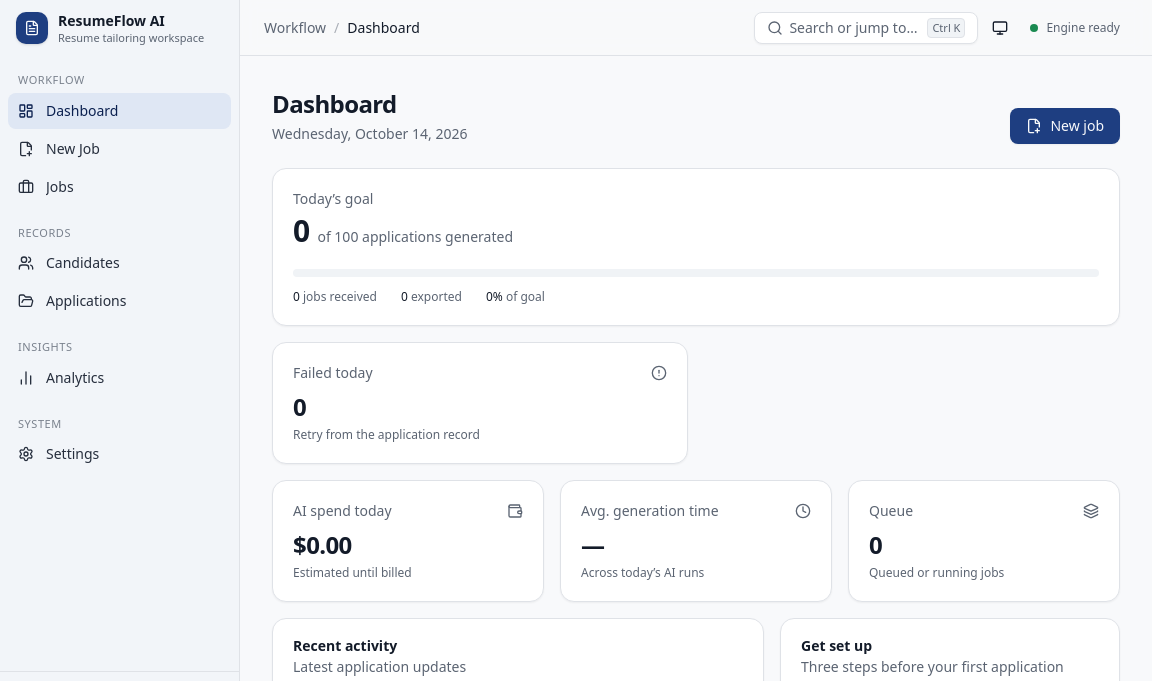
app shell › navigates to New Job from the sidebar
Click the link "New Job": {"x": 59, "y": 148} [18,138,100,158]
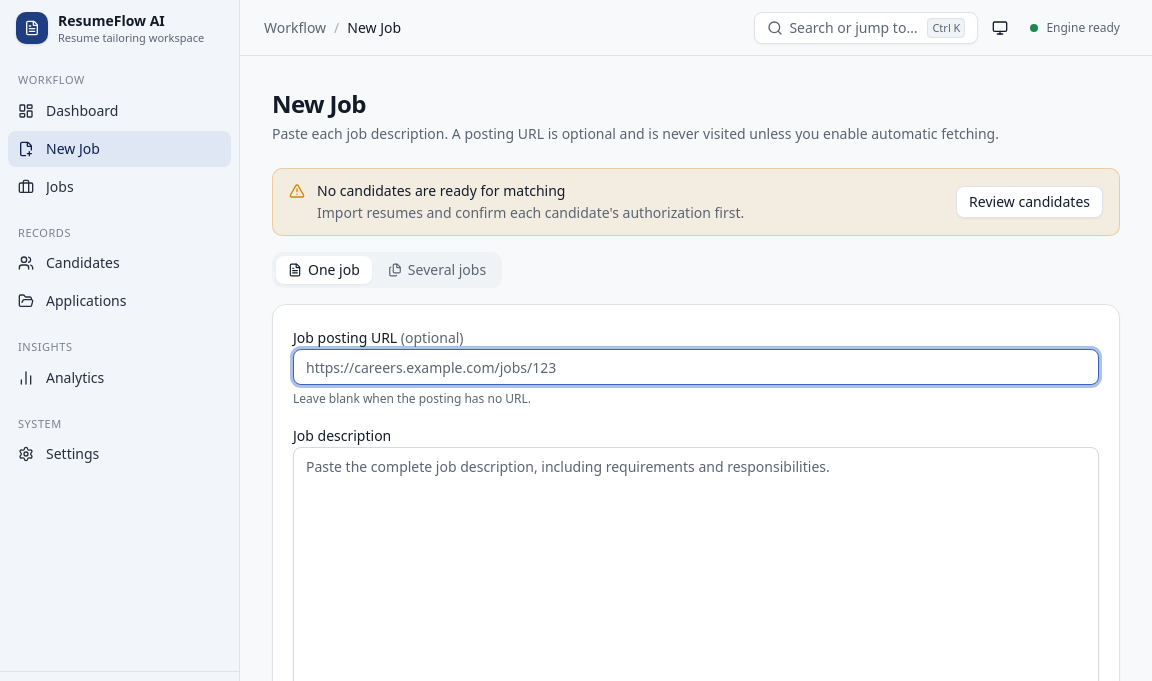
Check: the heading "New Job" is shown, box [272,87,366,120]
